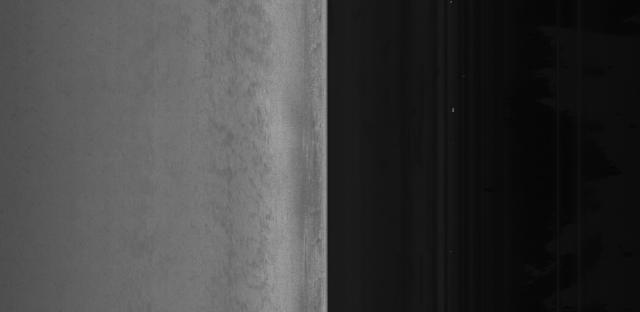silk_spot: (217, 118, 280, 231)
